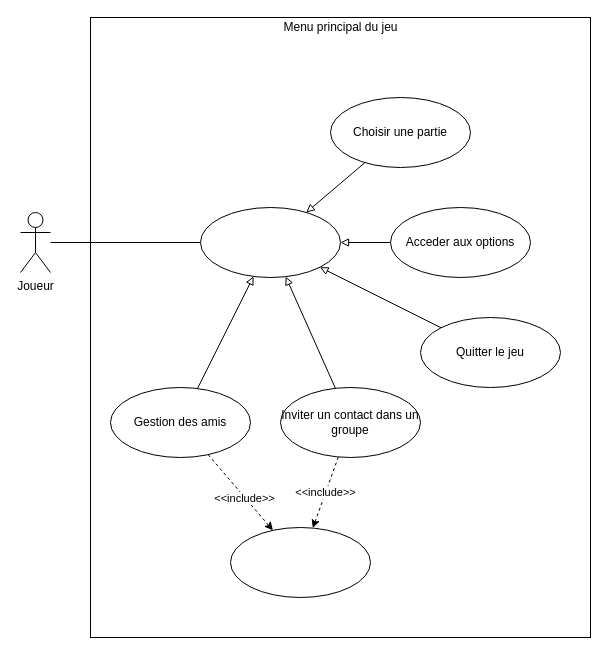
The diagram is 608 pixels wide and 655 high, and some of its shapes have lost their labels. Here are the shapes that lost their labels. From the top down, the box of each, then its label:
(200, 206, 340, 278): Choisir un menu
(230, 526, 370, 598): Se connecter
